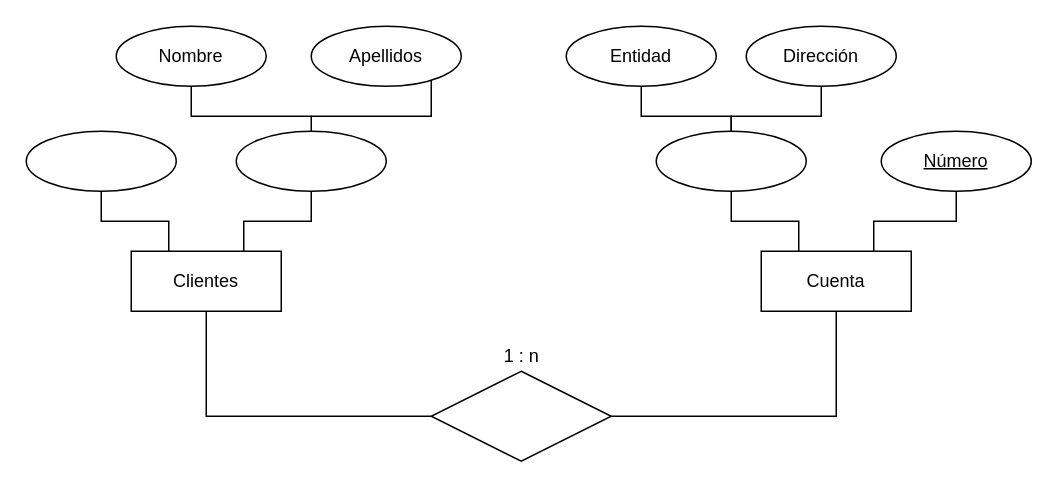
The diagram is 1058 pixels wide and 488 high, and some of its shapes have lost their labels. Here are the shapes that lost their labels. From the top down, the box of each, then its label:
(25, 130, 176, 191): DNI
(235, 130, 386, 191): Datos
(655, 130, 806, 191): Sucursal
(430, 370, 611, 461): Poseen
